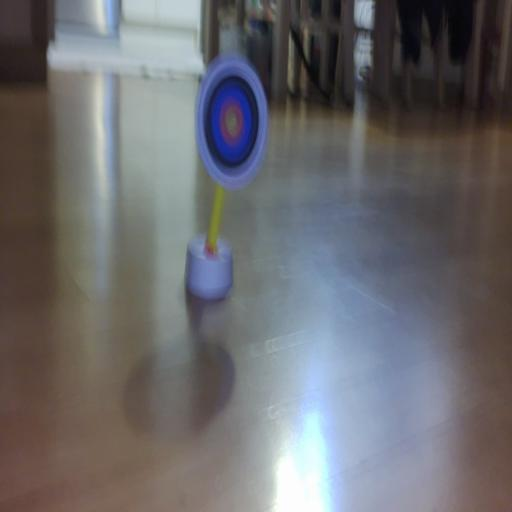target: (195, 53, 268, 189)
